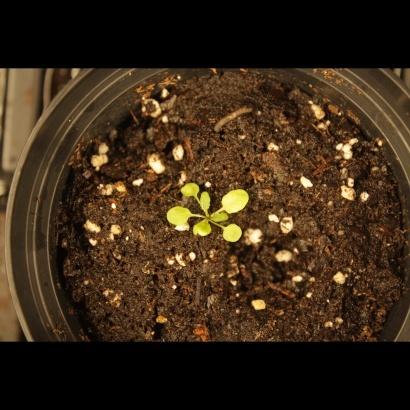leaf: (221, 186, 254, 215), (162, 203, 194, 228), (195, 191, 218, 217), (222, 222, 245, 245), (191, 219, 214, 242), (181, 176, 204, 199), (206, 205, 229, 228)
